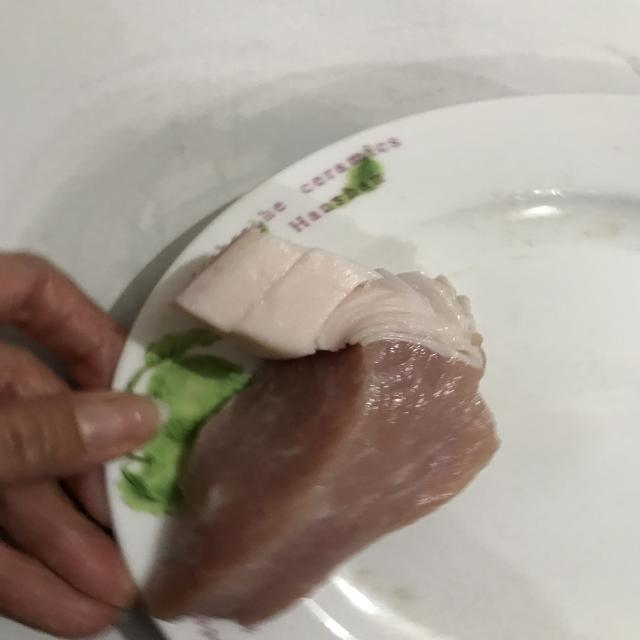chicken: (156, 234, 501, 630)
